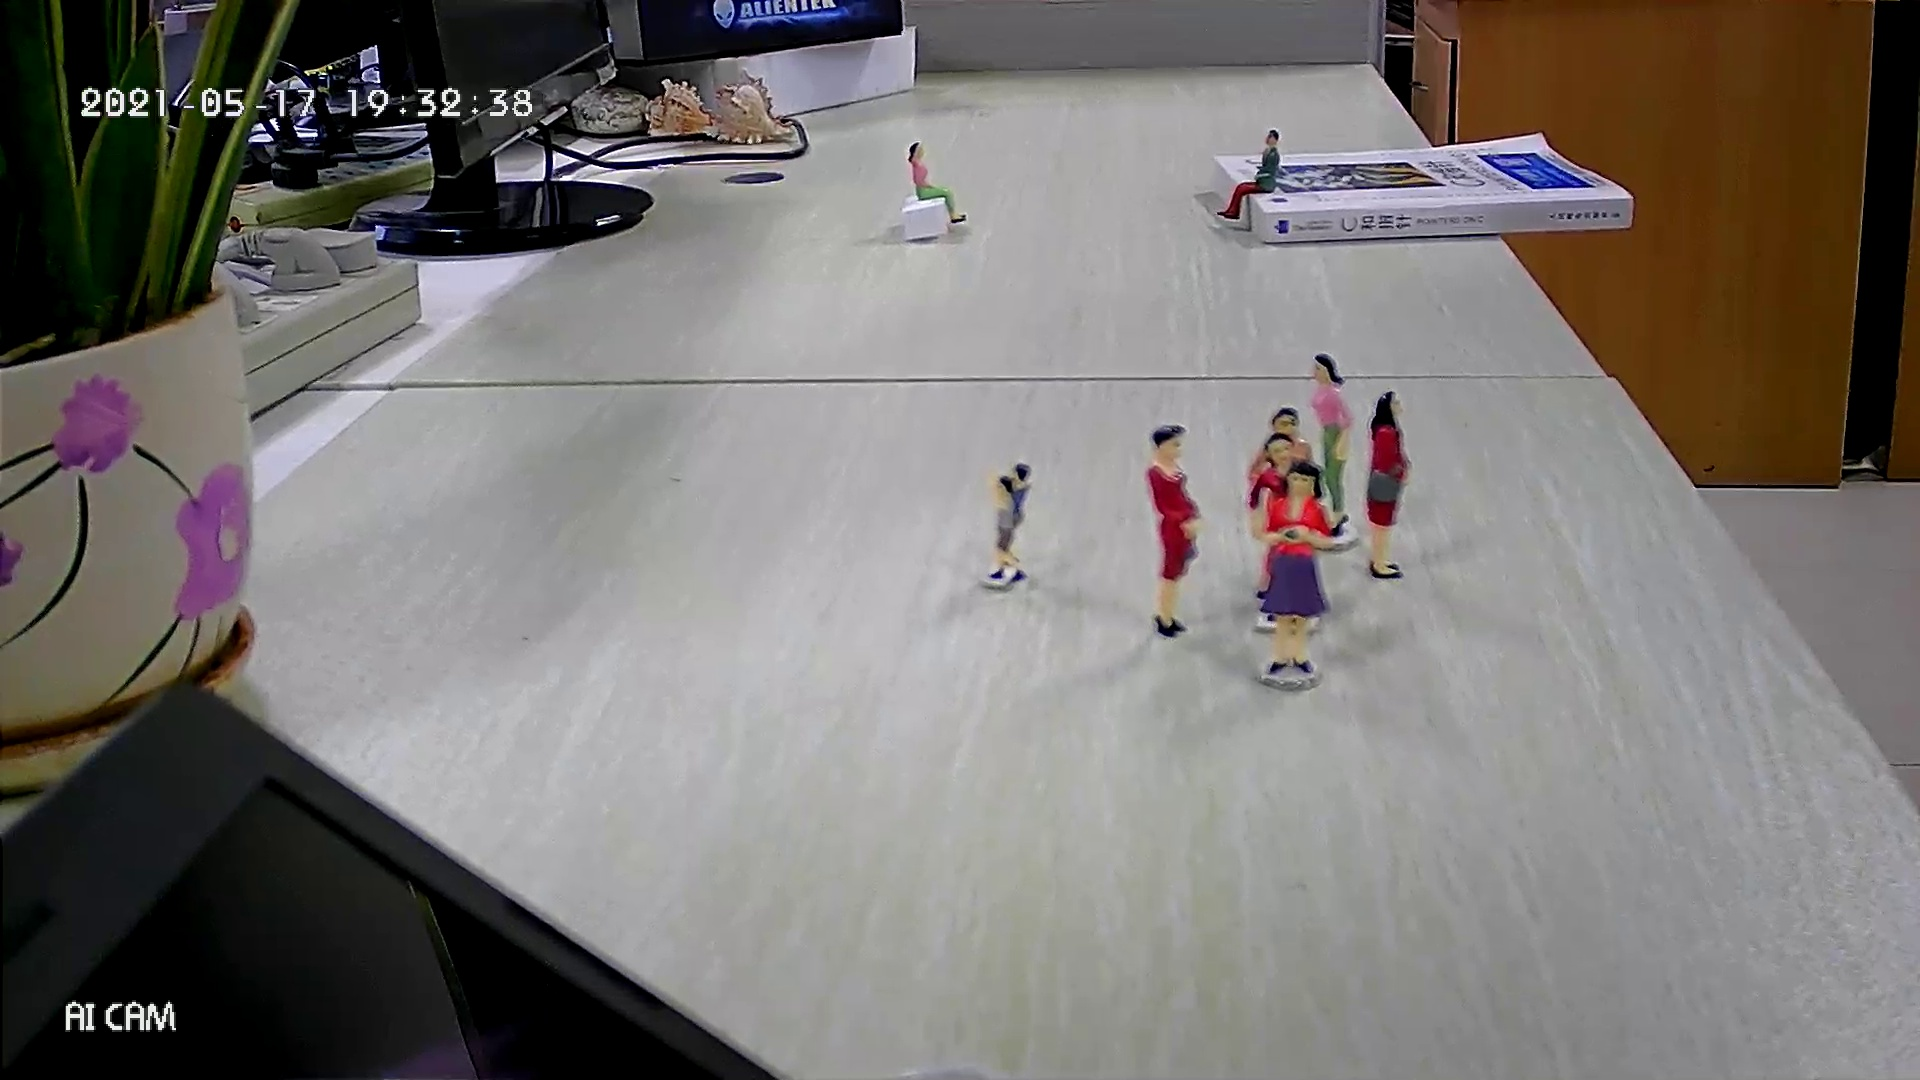person: (1251, 461, 1338, 675), (1247, 406, 1329, 599), (1249, 431, 1326, 623), (1143, 422, 1205, 640), (1366, 390, 1415, 581), (1308, 350, 1355, 539), (1214, 128, 1283, 221), (906, 139, 968, 224), (983, 471, 1028, 585), (994, 459, 1035, 568)
